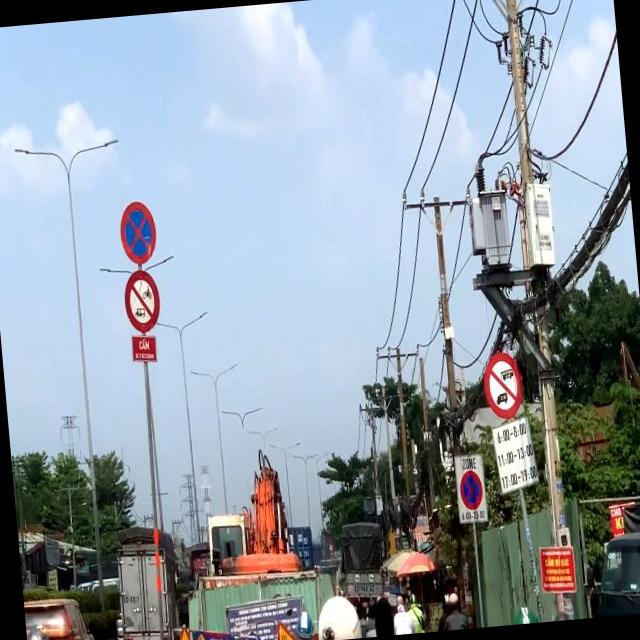P-104: (122, 268, 162, 335)
P-130: (115, 198, 160, 265)
